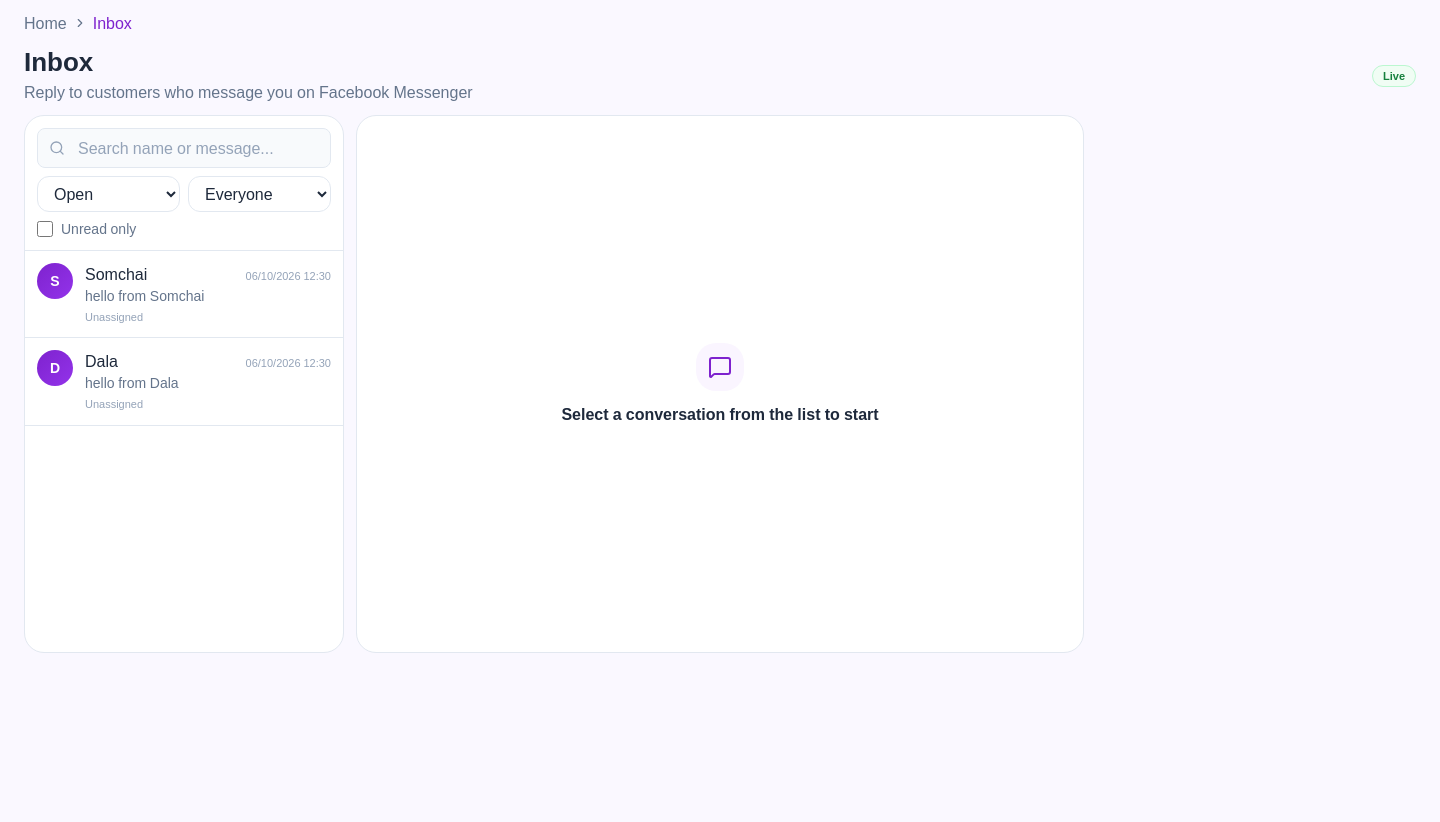
Scenario: InboxPage › ເລືອກເຄສຈາກລາຍການ → ເປີດ thread ແລະ ລາຍລະອຽດ; ເລືອກອັນອື່ນ → ປ່ຽນ thread
Click the button with test id "conversation-c1": (184, 294) left=25, top=250, right=343, bottom=338
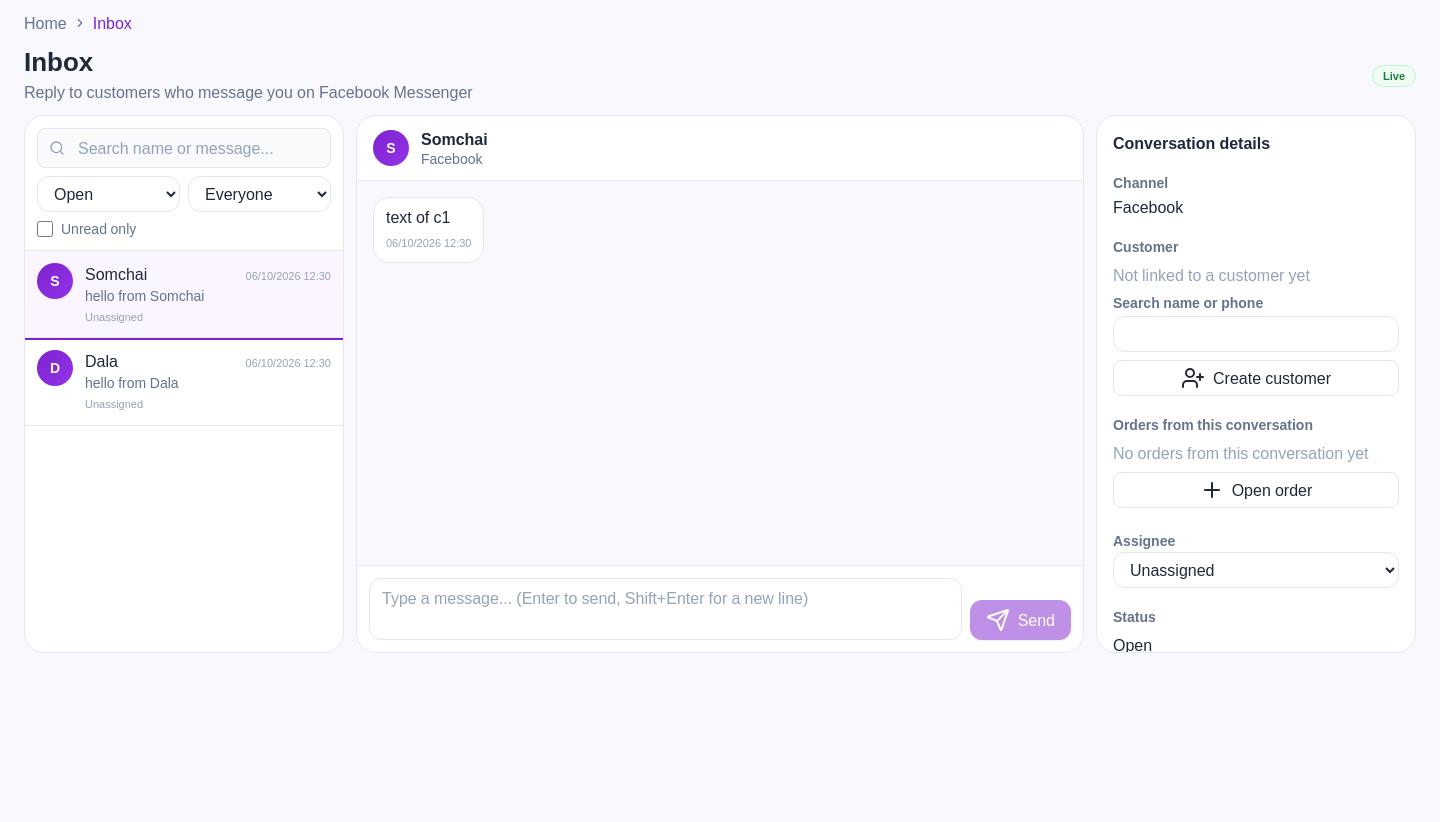
Result: the text "text of c1" is shown at left=386, top=204, right=450, bottom=230
Result: the number of headings "Conversation details" is 1 at left=1113, top=130, right=1270, bottom=156
Click the button with test id "conversation-c2": (55, 368) left=25, top=338, right=343, bottom=426
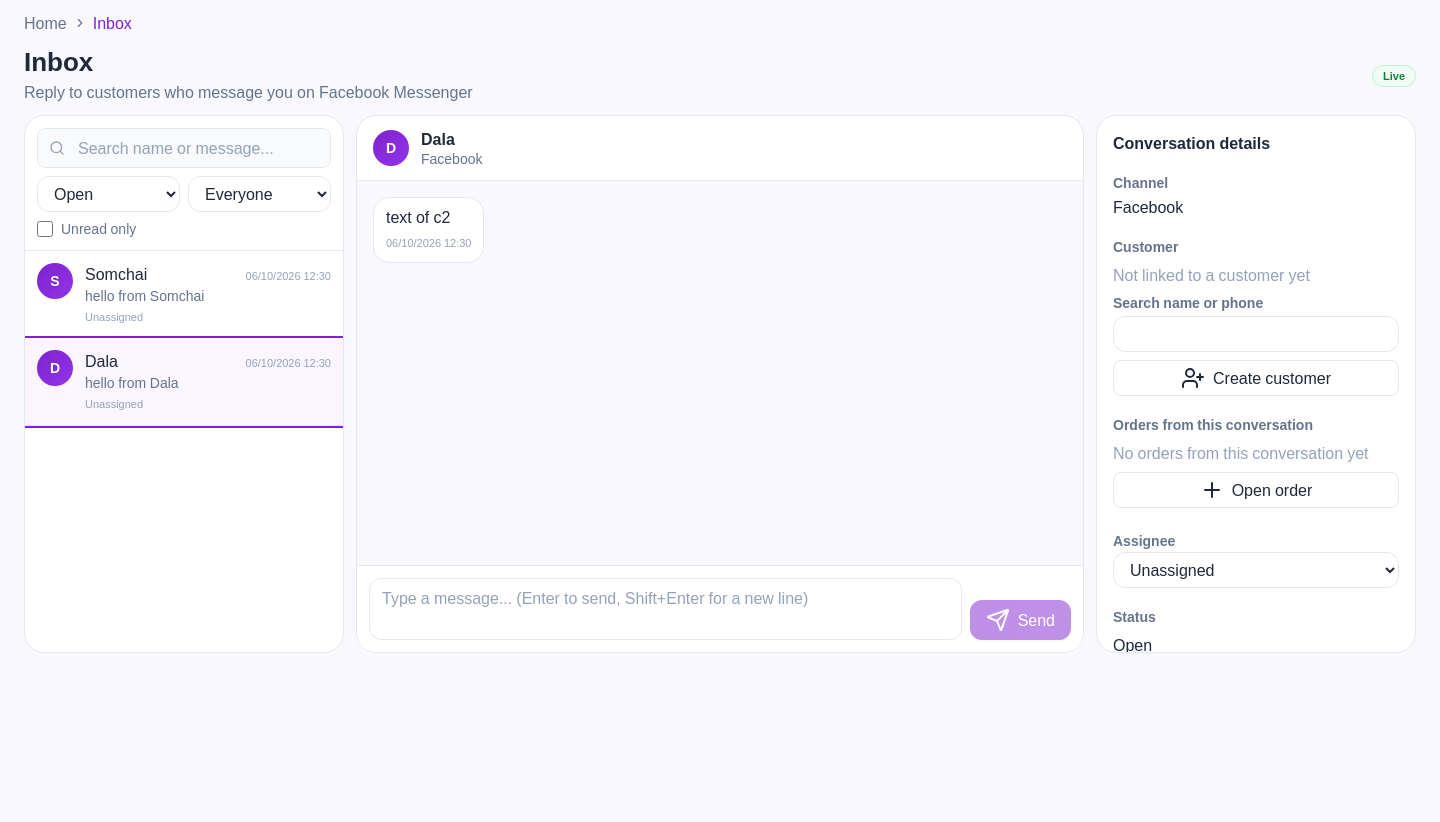
Result: the text "text of c2" is shown at left=386, top=204, right=450, bottom=230
Result: the text "text of c1" is gone
